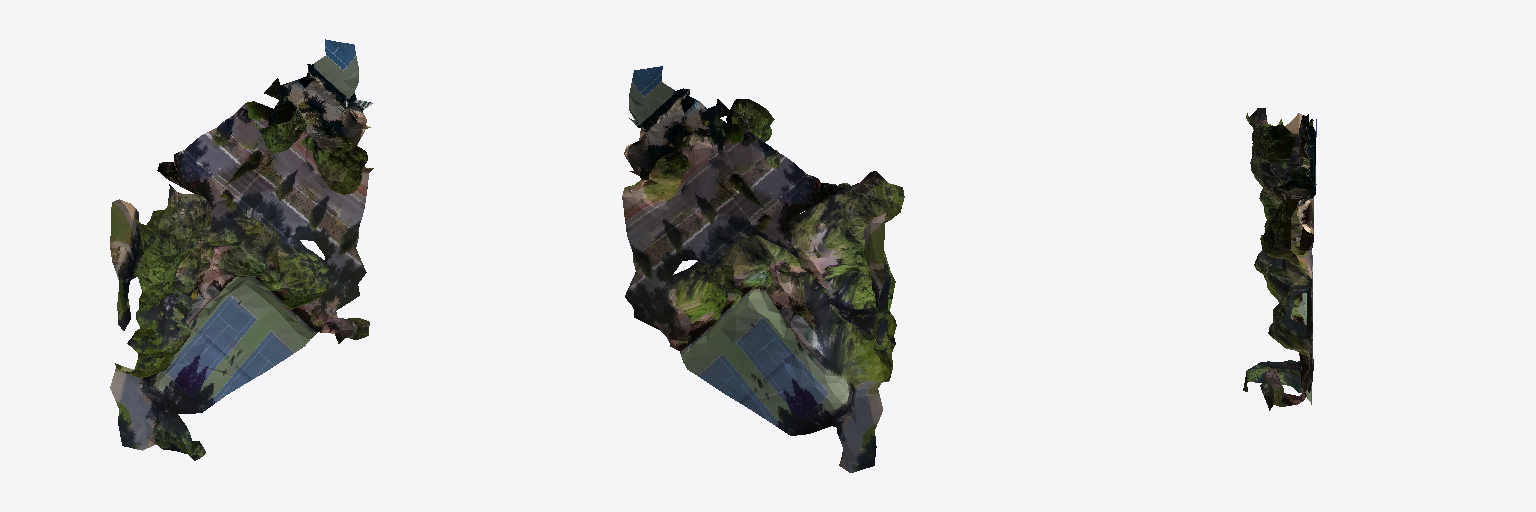
3 renders of one model, left to right at view 1: azimuth 30°, elevation 25°; view 2: azimuth 150°, elevation 25°; view 3: azimuth 270°, elevation 25°, orthographic.
Bounding box in the file's own units: 70.1 × 93.29 × 17.09.
1 materials, 1 textured.